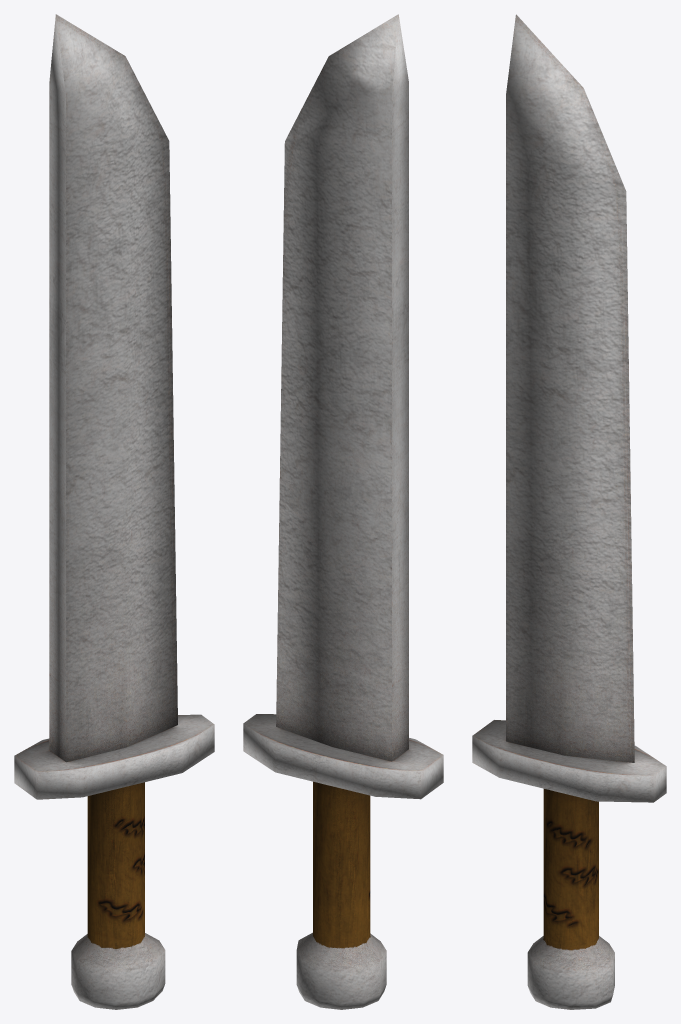
The model's file is Sword.fbx.
3 renders of one model, left to right at view 1: azimuth 30°, elevation 25°; view 2: azimuth 150°, elevation 25°; view 3: azimuth 330°, elevation 25°, orthographic. The views are drawn at different scales.
Parts seen in each view (by area): view 1: Blade; view 2: Blade; view 3: Blade.
Boxes of the visible parts, box(x1,y1,x2,y2) form: Blade: box(14, 14, 214, 1009); Blade: box(243, 14, 443, 1009); Blade: box(472, 14, 666, 1009).
Bounding box in the file's own units: 85.41 × 444 × 36.57.
